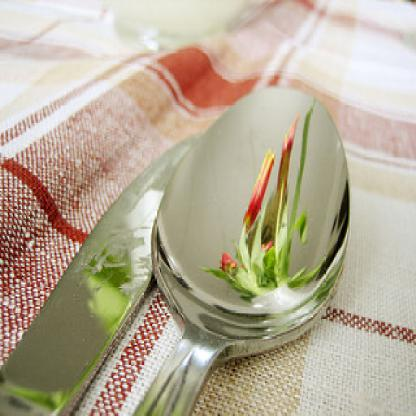TULIP: (211, 110, 333, 301)
